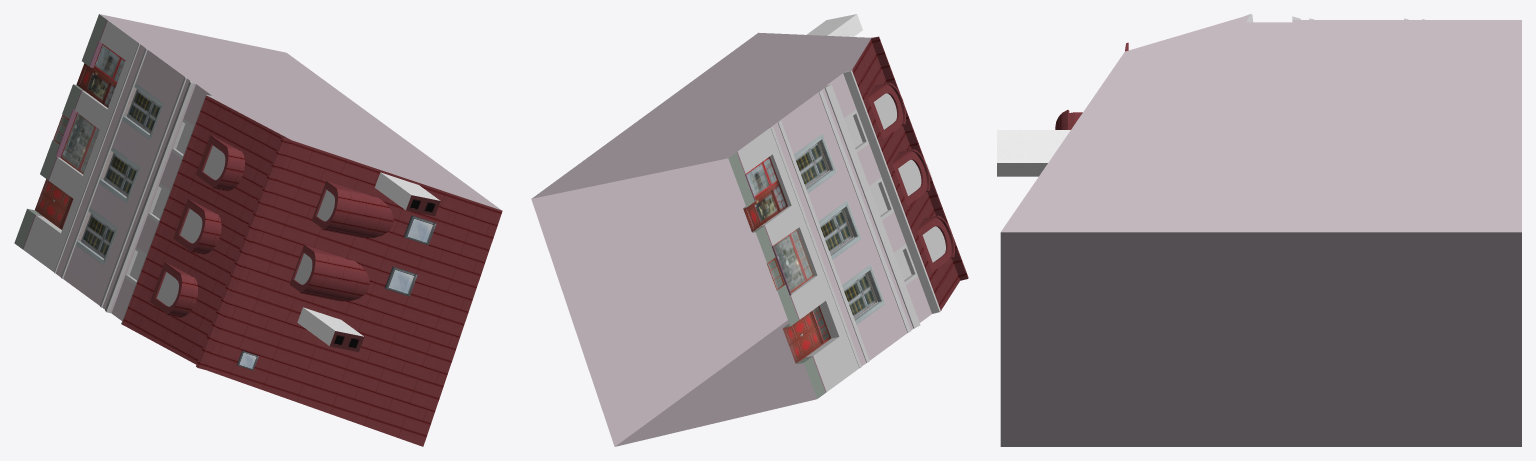
File: Pikk_38.obj
3 renders of one model, left to right at view 1: azimuth 30°, elevation 25°; view 2: azimuth 150°, elevation 25°; view 3: azimuth 270°, elevation 25°, orthographic. The views are drawn at different scales.
Parts seen in each view (by area): view 1: Pikk_38; view 2: Pikk_38; view 3: Pikk_38.
Part boxes in pixels (x1,y1,x2,y2): Pikk_38: (14,14,502,446); Pikk_38: (531,14,968,446); Pikk_38: (997,14,1521,446).
Size of the model in its own units: 14.02 by 14.65 by 19.04.
